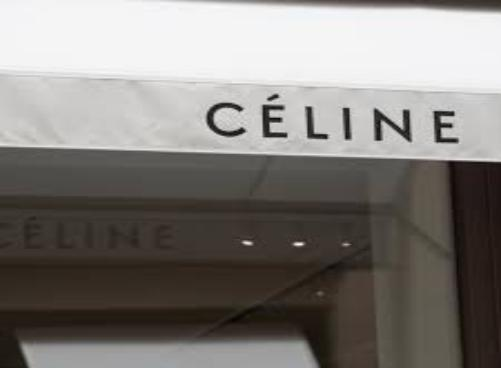CELINE: (195, 89, 472, 152)
